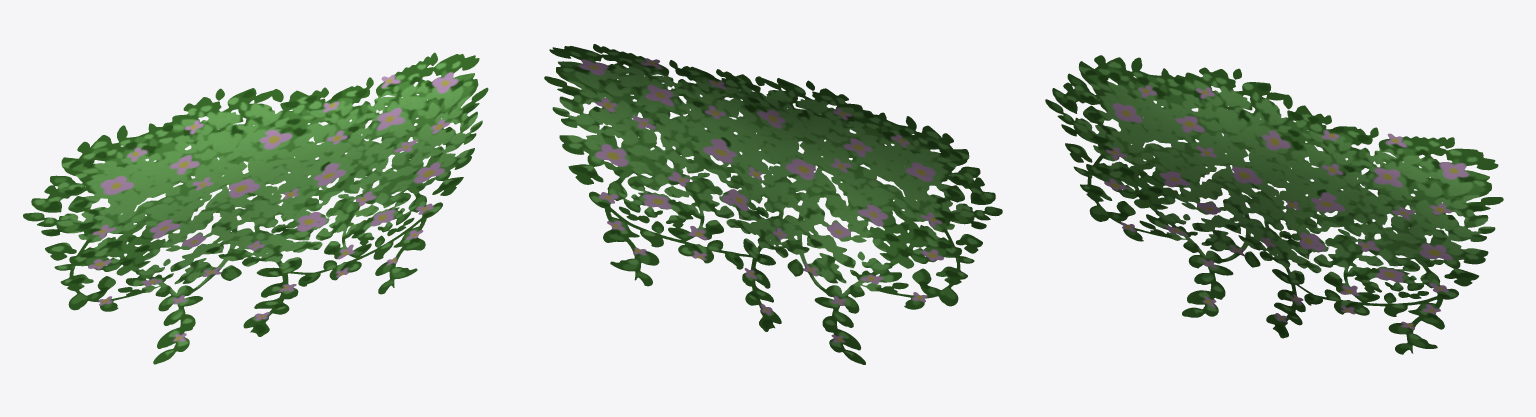
File: E_ArribaFlores.fbx
3 renders of one model, left to right at view 1: azimuth 30°, elevation 25°; view 2: azimuth 150°, elevation 25°; view 3: azimuth 330°, elevation 25°, orthographic.
Visible parts, largest first — view 1: E_ArribaFlores; view 2: E_ArribaFlores; view 3: E_ArribaFlores.
Part boxes in pixels (left/top/right/bottom): E_ArribaFlores: left=23, top=52, right=488, bottom=364; E_ArribaFlores: left=544, top=44, right=1002, bottom=364; E_ArribaFlores: left=1045, top=55, right=1503, bottom=354.
Size of the model in its own units: 1657 by 902 by 111.
1 material, 1 textured.
